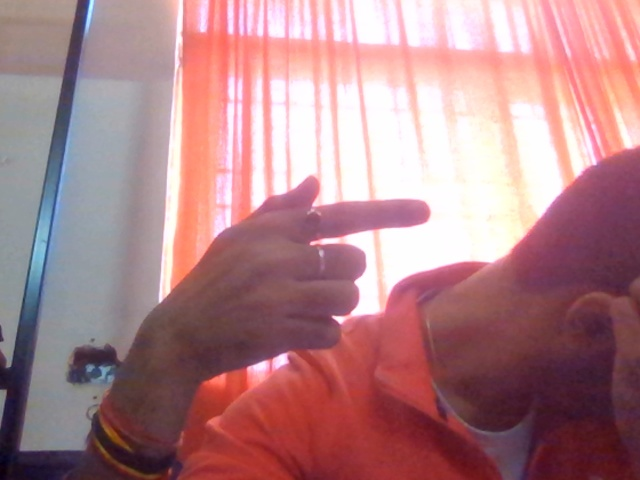G: (99, 175, 439, 410)
